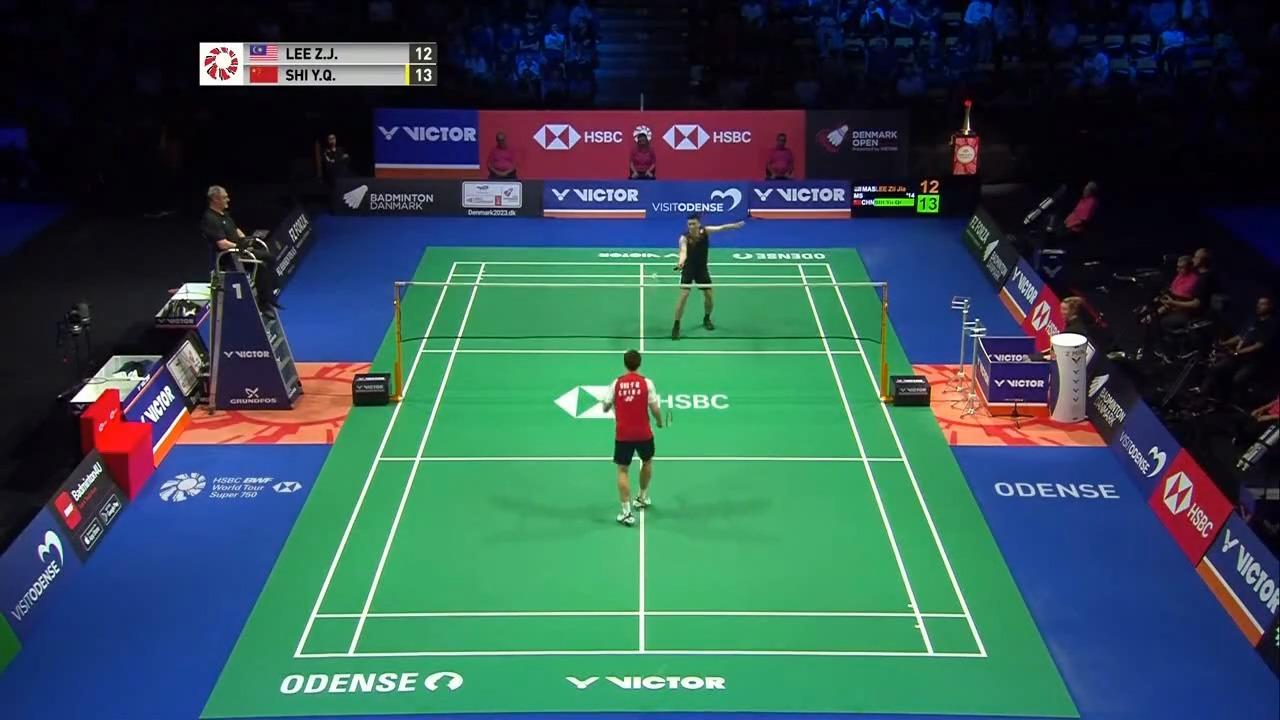shuttle: (652, 271, 659, 280)
